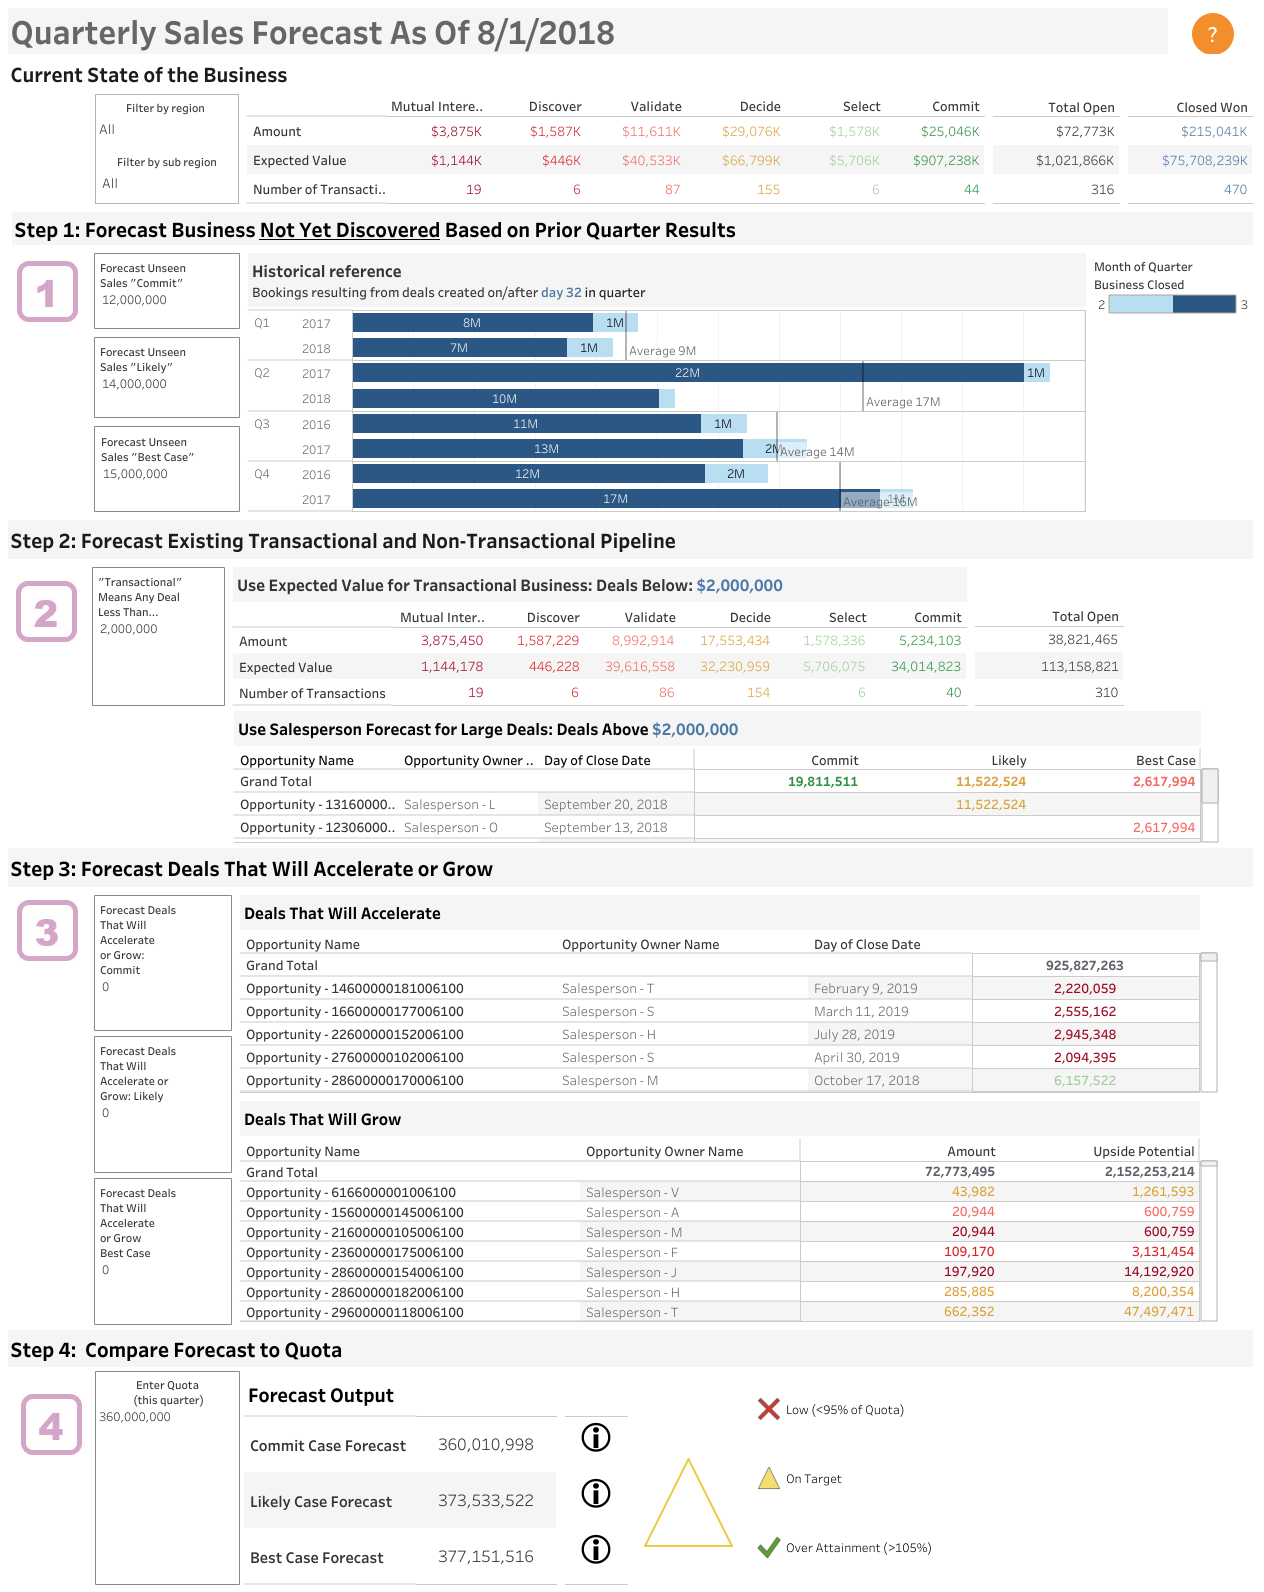

The dashboard page shown, as its layout file describes it:
{"tool":"tableau","page":{"name":"Quarterly Forecast Dashboard","canvas":[1265,1593],"ordinal":0},"visuals":[{"type":"text","box":[8,8,1160,50]},{"type":"worksheet","title":"Sheet 14","mark":"Circle","box":[1168,8,89,50]},{"type":"text","box":[8,58,1249,32]},{"type":"blank","box":[8,90,83,118]},{"type":"worksheet","title":"Open by Stage","mark":"Automatic","cols":["StageName"],"box":[243,90,746.2,118]},{"type":"worksheet","title":"Total Open","mark":"Automatic","box":[989.2,90,134.8,118]},{"type":"worksheet","title":"Closed Won ","mark":"Automatic","box":[1124,90,133,118]},{"type":"filter","title":"Open by Stage","param":"[federated.12xout610y5dzl11x0h7s0h67zih].[none:Region:nk]","box":[96,95,142,54]},{"type":"filter","title":"Open by Stage","param":"[federated.12xout610y5dzl11x0h7s0h67zih].[none:SubRegion:nk]","box":[96,149,142,54]},{"type":"text","box":[8,208,1249,41]},{"type":"image","param":"Image/Step 1.jpg","box":[8,249,82,84]},{"type":"parameter","param":"[Parameters].[Parameter 4]","box":[90,249,154.1,84]},{"type":"worksheet","title":"Unseen Monthly New","mark":"Bar","rows":["Close Date","Close Date"],"cols":["Calculation_688769325177065473"],"box":[244.1,249,845.9,267]},{"type":"legend","title":"Unseen Monthly New","param":"[federated.12xout610y5dzl11x0h7s0h67zih].[none:Calculation_1076923304500023297:q","box":[1090,249,167,267]},{"type":"blank","box":[8,333,82,183]},{"type":"parameter","param":"[Parameters].[Parameter 5]","box":[90,333,154.1,89]},{"type":"parameter","param":"[Parameters].[Parameter 6]","box":[90,422,154.1,94]},{"type":"text","box":[8,516,1249,47]},{"type":"image","param":"Image/Step 2.jpg","box":[8,563,80,97]},{"type":"parameter","param":"[Parameters].[Parameter 3]","box":[88,563,141,147]},{"type":"worksheet","title":"Small Deal Forecast Parameter","mark":"Automatic","cols":["StageName"],"box":[229,563,741.6,147]},{"type":"worksheet","title":"Total Open Transactional Forecast","mark":"Automatic","box":[970.6,563,157.2,147]},{"type":"blank","box":[1127.8,563,129.2,147]},{"type":"blank","box":[8,710,225,134]},{"type":"worksheet","title":"Forecasting Large Deals","mark":"Text","rows":["Opportunity Name","Opportunity Owner Name","Close Date"],"cols":["Calculation_369295231570141186"],"box":[233,710,990,134]},{"type":"blank","box":[1223,710,34,134]},{"type":"text","box":[8,844,1249,47]},{"type":"image","param":"Image/Step 3.jpg","box":[8,891,82,78]},{"type":"parameter","param":"[Parameters].[Commit Forecast  Parameter]","box":[90,891,146,141]},{"type":"worksheet","title":"Pull Forward","mark":"Text","rows":["Opportunity Name","Opportunity Owner Name","Close Date"],"box":[236,891,986,206]},{"type":"blank","box":[1222,891,35,435]},{"type":"blank","box":[8,969,82,357]},{"type":"parameter","param":"[Parameters].[Likely Forecast Parameter]","box":[90,1032,146,142]},{"type":"worksheet","title":"Upside","mark":"Text","rows":["Opportunity Name","Opportunity Owner Name"],"box":[236,1097,986,229]},{"type":"parameter","param":"[Parameters].[Commit Forecast  Parameter 2]","box":[90,1174,146,152]},{"type":"text","box":[8,1326,1249,45]},{"type":"image","param":"Image/Step 4.jpg","box":[8,1371,87,107]},{"type":"worksheet","title":"Near Term - Figures","mark":"Text","box":[239.8,1371,321.2,214]},{"type":"worksheet","title":"Info - Near Call","mark":"Shape","rows":["Forecast"],"box":[561,1371,71,214]},{"type":"blank","box":[632,1371,113,79.3]},{"type":"worksheet","title":"Legend","mark":"Shape","rows":["Transactional Opps (Forecasts) (copy)"],"cols":["Calculation_1273111381196414982"],"box":[745,1371,230,214]},{"type":"blank","box":[975,1371,282,214]},{"type":"parameter","param":"[Parameters].[Opp Threshold (copy)]","box":[96,1372,142.8,130]},{"type":"worksheet","title":"Near Term - Symbol","mark":"Shape","box":[632,1450.3,113,100.8]},{"type":"blank","box":[8,1478,87,107]},{"type":"blank","box":[632,1551.1,113,33.9]}]}

Visuals, with their boxes in screenshot pixels (x1, y1, x2, y2), scaled from the page's 1265x1593 canvas onto the 1264x1592 screenshot:
text: bbox=(8, 8, 1167, 58)
"Sheet 14" worksheet (Circle marks): bbox=(1167, 8, 1256, 58)
text: bbox=(8, 58, 1256, 90)
blank: bbox=(8, 90, 91, 208)
"Open by Stage" worksheet: bbox=(243, 90, 988, 208)
"Total Open" worksheet: bbox=(988, 90, 1123, 208)
"Closed Won " worksheet: bbox=(1123, 90, 1256, 208)
"Open by Stage" filter: bbox=(96, 95, 238, 149)
"Open by Stage" filter: bbox=(96, 149, 238, 203)
text: bbox=(8, 208, 1256, 249)
image: bbox=(8, 249, 90, 333)
parameter: bbox=(90, 249, 244, 333)
"Unseen Monthly New" worksheet (Bar marks): bbox=(244, 249, 1089, 516)
"Unseen Monthly New" legend: bbox=(1089, 249, 1256, 516)
blank: bbox=(8, 333, 90, 516)
parameter: bbox=(90, 333, 244, 422)
parameter: bbox=(90, 422, 244, 516)
text: bbox=(8, 516, 1256, 563)
image: bbox=(8, 563, 88, 660)
parameter: bbox=(88, 563, 229, 710)
"Small Deal Forecast Parameter" worksheet: bbox=(229, 563, 970, 710)
"Total Open Transactional Forecast" worksheet: bbox=(970, 563, 1127, 710)
blank: bbox=(1127, 563, 1256, 710)
blank: bbox=(8, 710, 233, 843)
"Forecasting Large Deals" worksheet (Text marks): bbox=(233, 710, 1222, 843)
blank: bbox=(1222, 710, 1256, 843)
text: bbox=(8, 843, 1256, 890)
image: bbox=(8, 890, 90, 968)
parameter: bbox=(90, 890, 236, 1031)
"Pull Forward" worksheet (Text marks): bbox=(236, 890, 1221, 1096)
blank: bbox=(1221, 890, 1256, 1325)
blank: bbox=(8, 968, 90, 1325)
parameter: bbox=(90, 1031, 236, 1173)
"Upside" worksheet (Text marks): bbox=(236, 1096, 1221, 1325)
parameter: bbox=(90, 1173, 236, 1325)
text: bbox=(8, 1325, 1256, 1370)
image: bbox=(8, 1370, 95, 1477)
"Near Term - Figures" worksheet (Text marks): bbox=(240, 1370, 561, 1584)
"Info - Near Call" worksheet (Shape marks): bbox=(561, 1370, 632, 1584)
blank: bbox=(632, 1370, 744, 1449)
"Legend" worksheet (Shape marks): bbox=(744, 1370, 974, 1584)
blank: bbox=(974, 1370, 1256, 1584)
parameter: bbox=(96, 1371, 239, 1501)
"Near Term - Symbol" worksheet (Shape marks): bbox=(632, 1449, 744, 1550)
blank: bbox=(8, 1477, 95, 1584)
blank: bbox=(632, 1550, 744, 1584)
